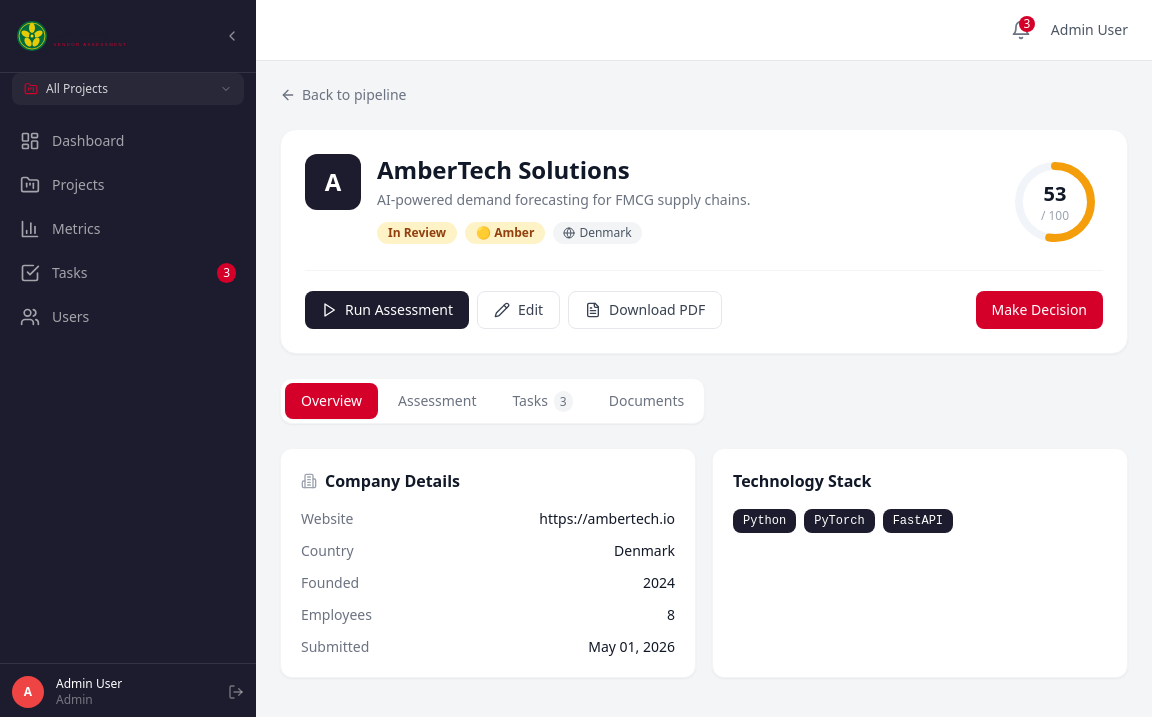
Test: VendorDetailPage › expands LLM reasoning on Assessment tab
The width and height of the screenshot is (1152, 717).
Expected: the heading "AmberTech Solutions" is shown, [377,153,630,186]
Step 1. Click the button "Assessment" → coordinates (437, 401), box [382,383,492,419]
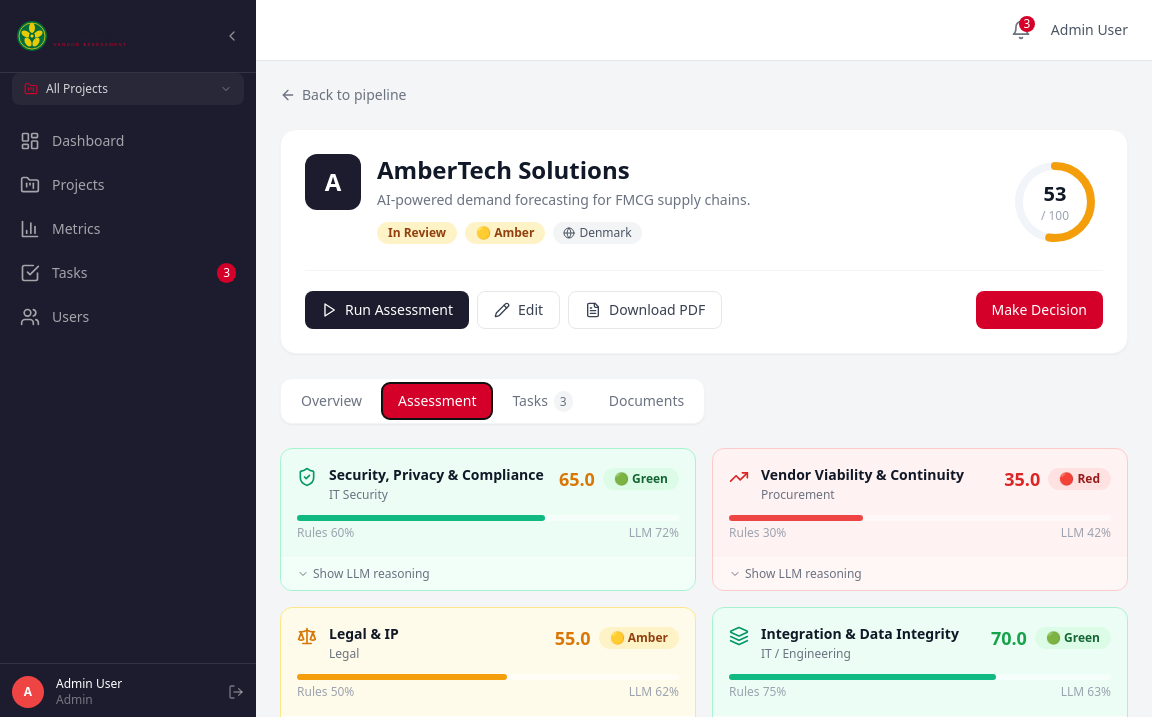
Now the text "Security, Privacy & Compliance" is shown, box [329,465,544,485]
Step 2. Click the button "Show LLM reasoning" below "60" → coordinates (328, 574), box [281,557,695,590]
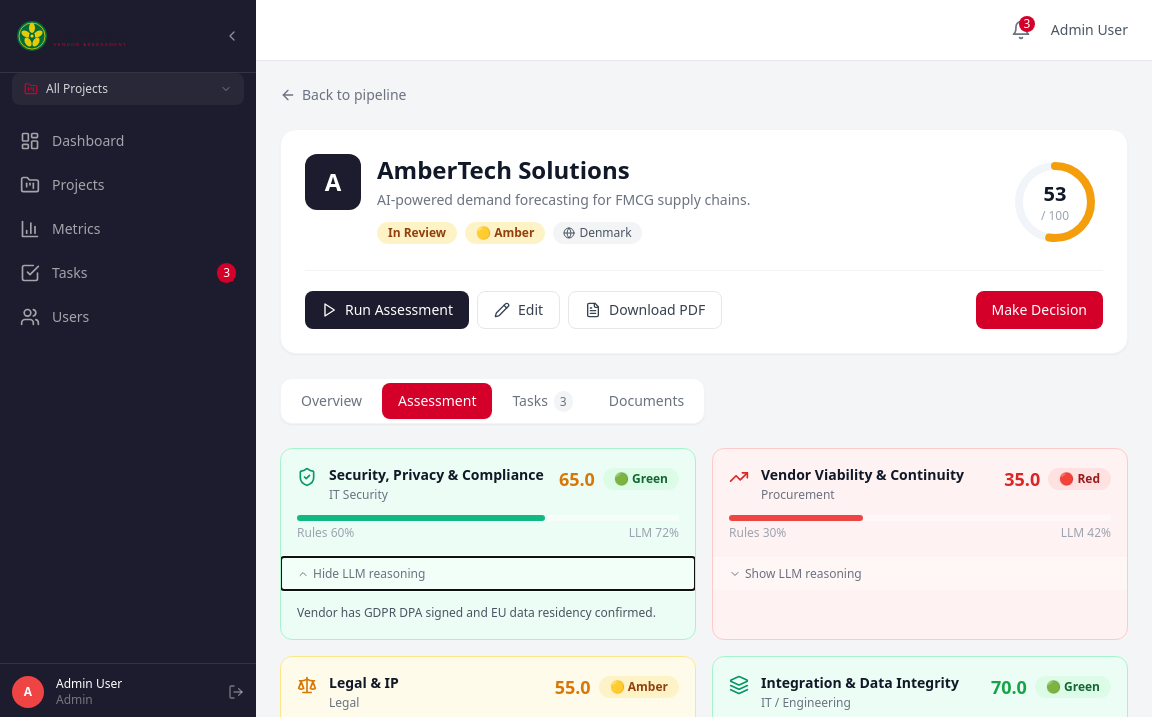
Now the text "Vendor has GDPR DPA signed and EU data residency confirmed." is shown, box [281,590,695,638]
